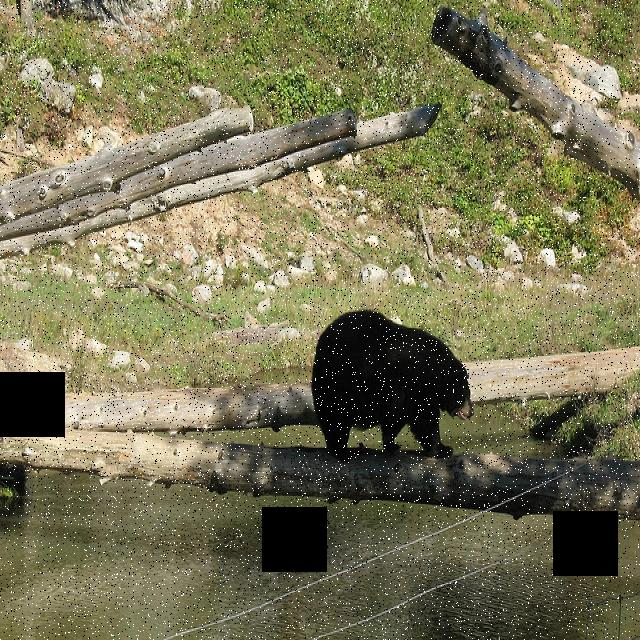Bear: (305, 294, 475, 454)
